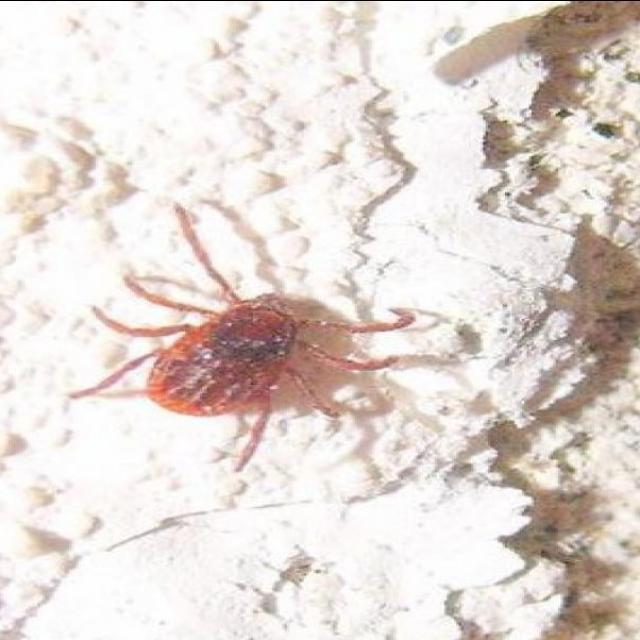Rhipicephalus Sanguineus-F: (69, 200, 452, 474)
